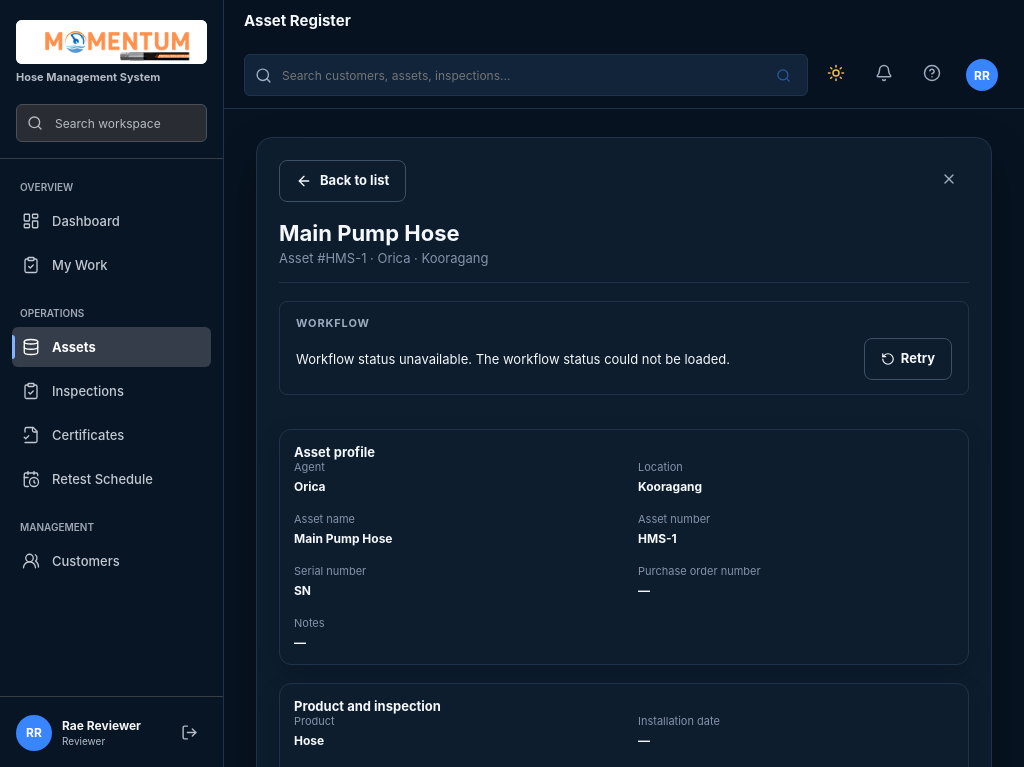
Test case: the asset workflow card inside the asset detail › keeps the asset usable when the workflow cannot be loaded, and Retry recovers
Expected: the message shows "Workflow status unavailable", [296,351,476,367]
Expected: the heading "Asset profile" is shown, [294,444,375,460]
Click the button "Retry" at (908, 359), box [864,338,952,380]
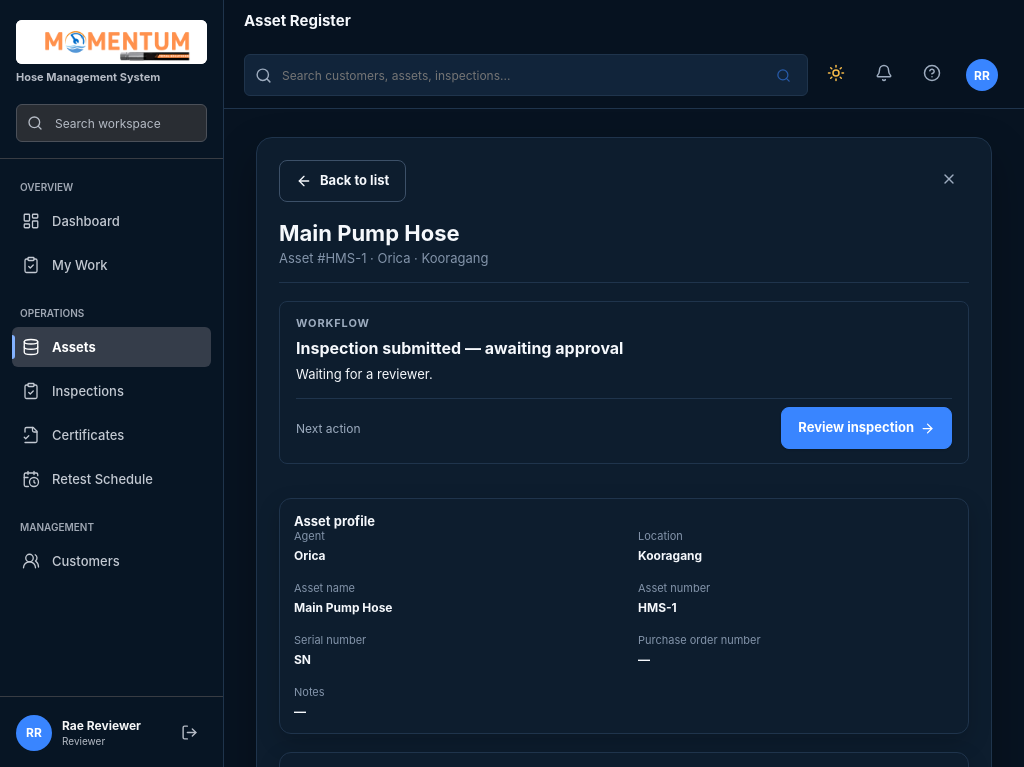
Result: the text "Inspection submitted — awaiting approval" is shown at [296,338,623,358]
